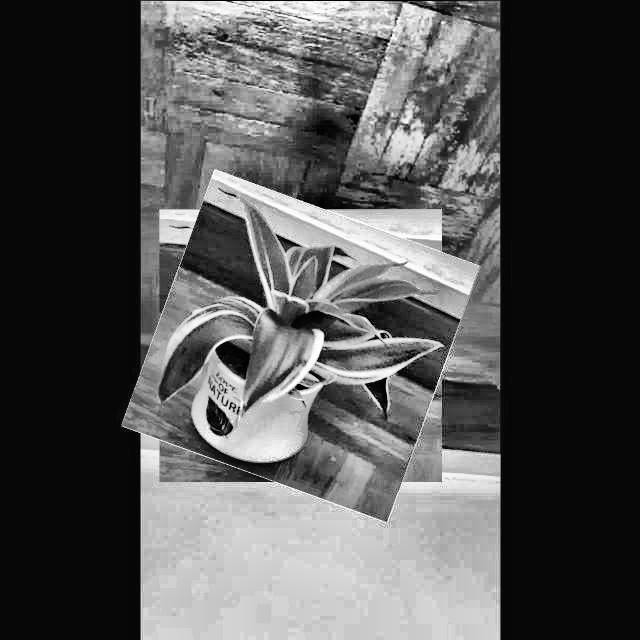plants: (140, 189, 461, 502)
